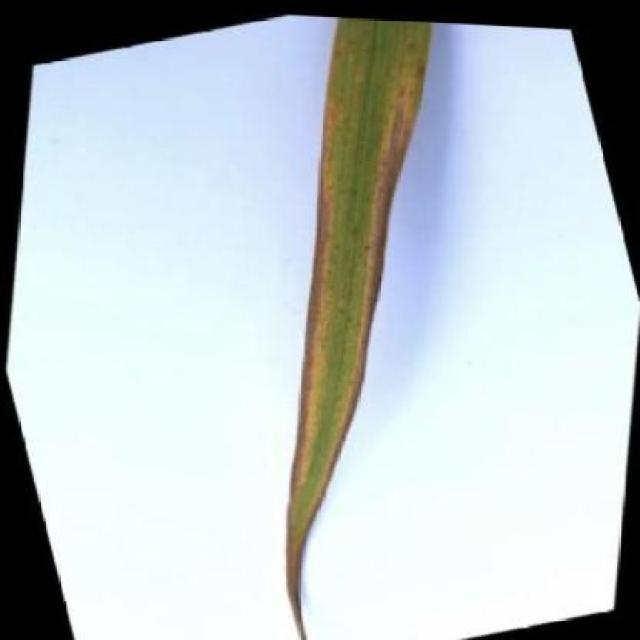Rice False Smut: (147, 6, 582, 640)
